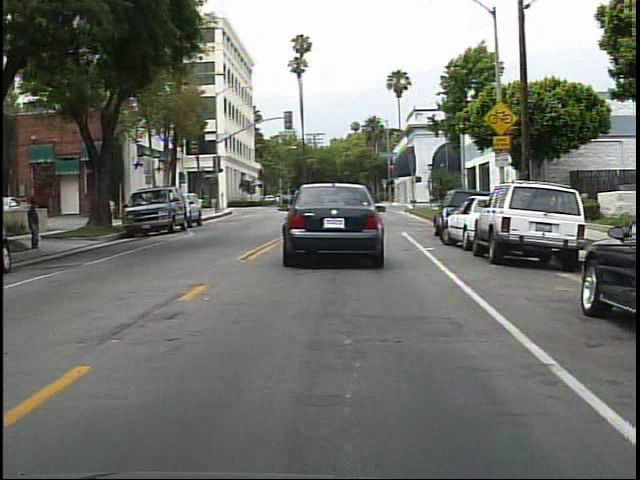person: (27, 196, 47, 253)
